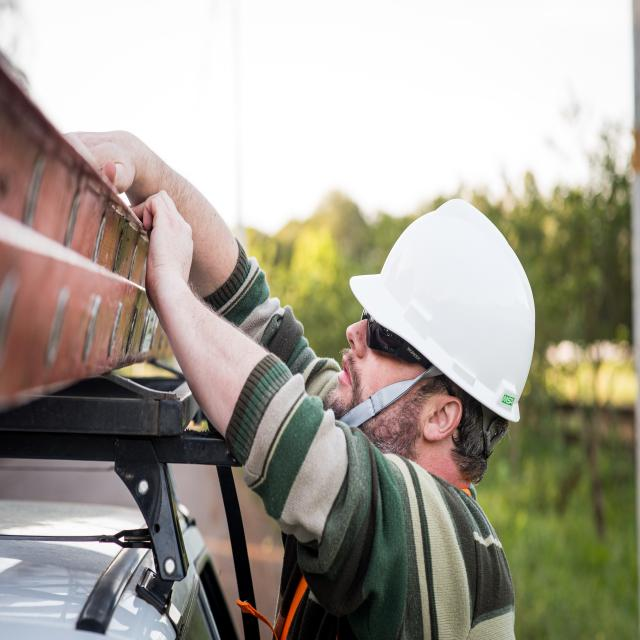capacete: (347, 195, 537, 428)
